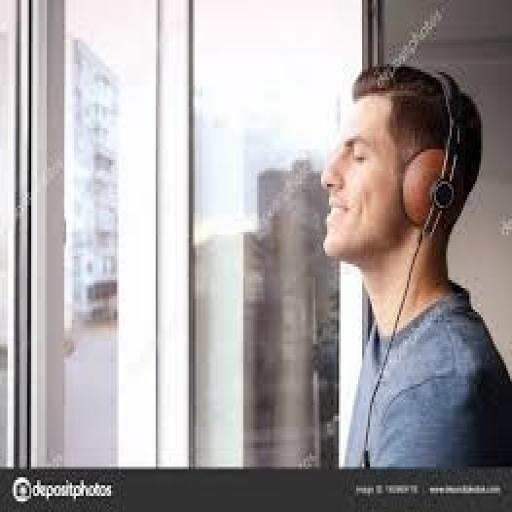listening_to_music: (317, 59, 510, 472)
